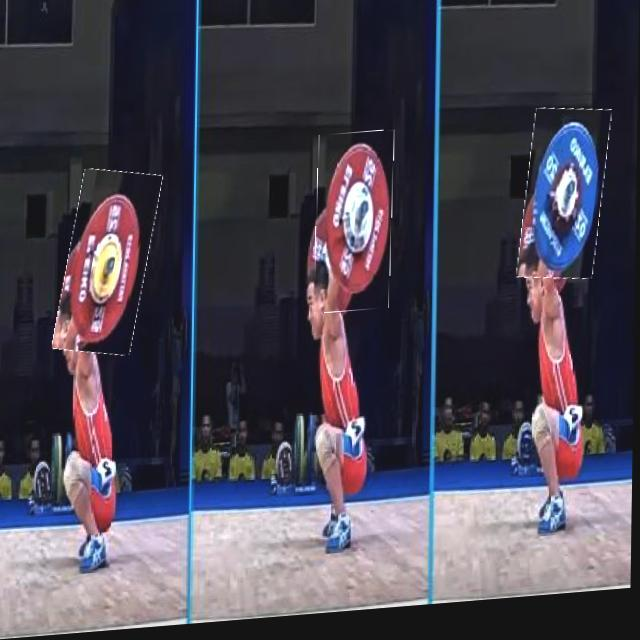barbell: (61, 169, 157, 360), (522, 116, 608, 293), (316, 138, 395, 321)
